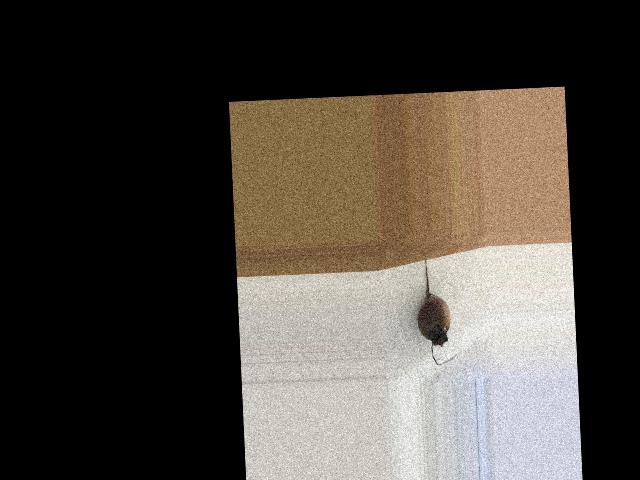beet: (414, 256, 456, 365)
